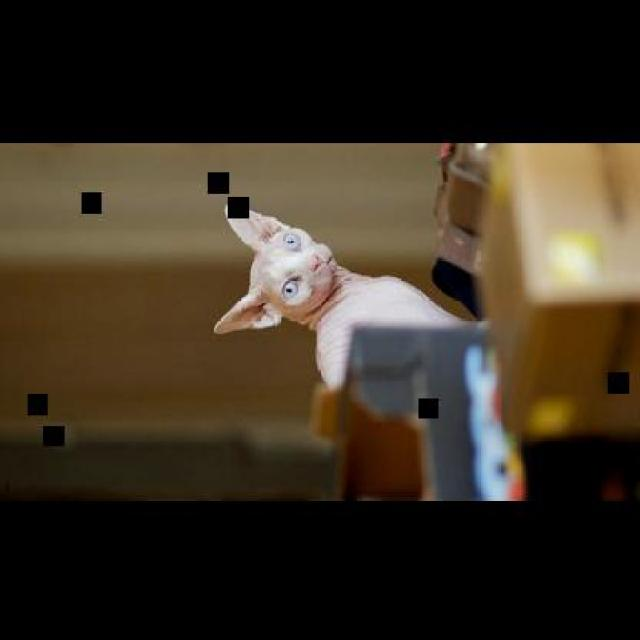unauthorized: (211, 206, 474, 392)
